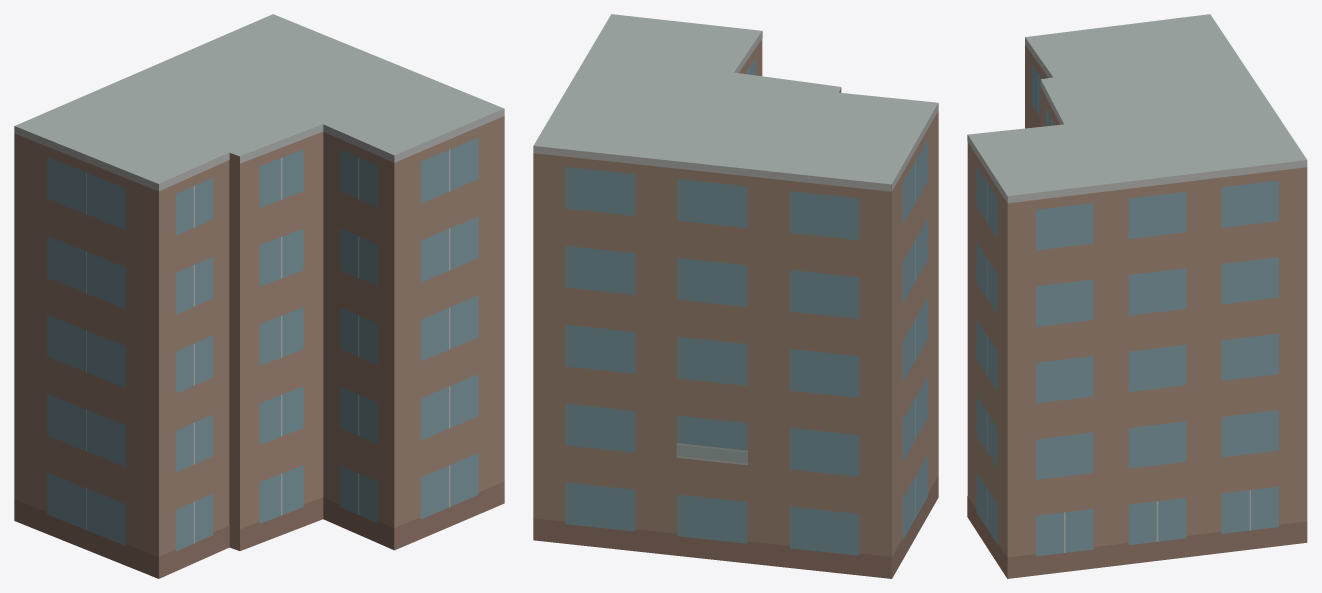
File: survey-upis-33014199.glb
3 views of the same model, side by side, from view 1: azimuth 30°, elevation 25°; view 2: azimuth 150°, elevation 25°; view 3: azimuth 270°, elevation 25° (orthographic). The views are drawn at different scales.
Visible parts, largest first — view 1: survey-upis-33014199.tmp; view 2: survey-upis-33014199.tmp; view 3: survey-upis-33014199.tmp.
Part boxes in pixels (bbox=[...]): survey-upis-33014199.tmp: bbox=[14, 14, 504, 578]; survey-upis-33014199.tmp: bbox=[533, 14, 938, 578]; survey-upis-33014199.tmp: bbox=[967, 14, 1307, 578].
Bounding box in the file's own units: 13.45 × 13.15 × 10.6.
